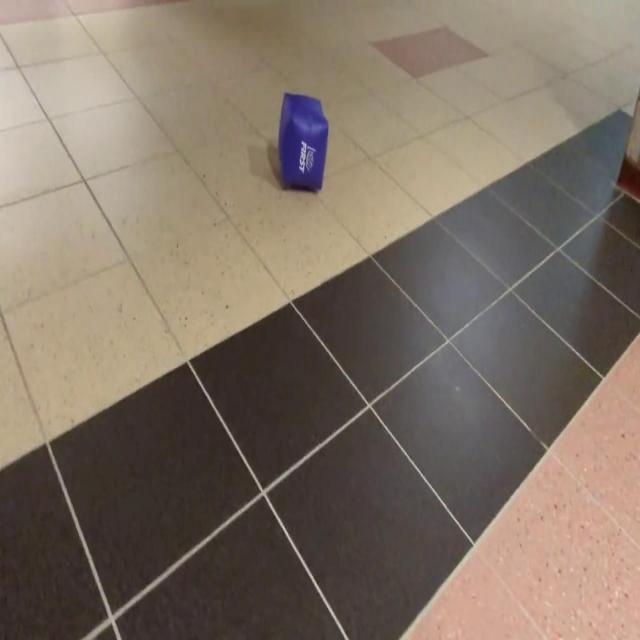frc_cube: (276, 92, 330, 186)
